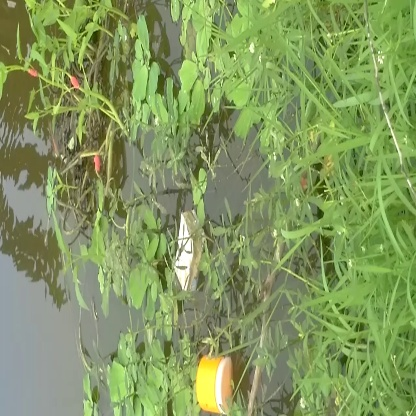bottle: (191, 351, 240, 414)
milk-box: (163, 200, 210, 293)
